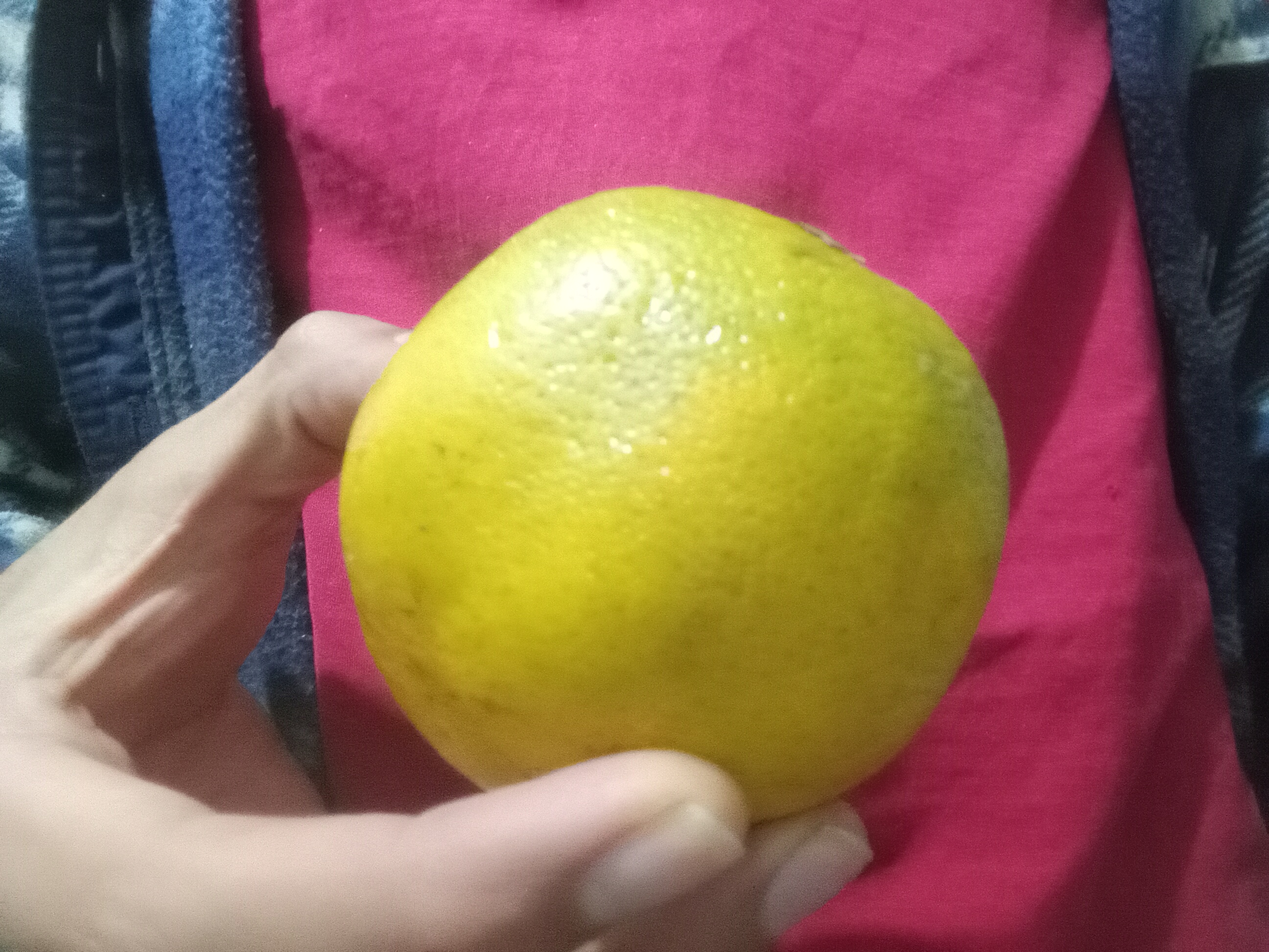Organico: (341, 186, 1009, 830)
